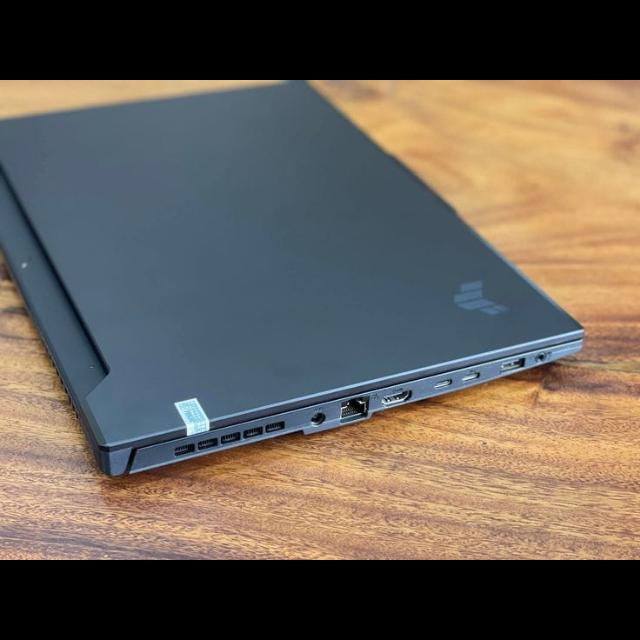laptop: (0, 80, 590, 486)
